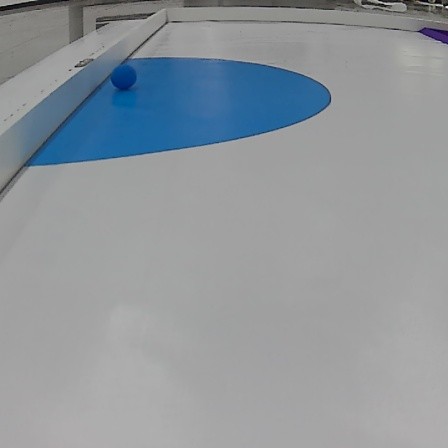blue: (110, 63, 138, 88)
blue_base: (19, 51, 332, 160)
